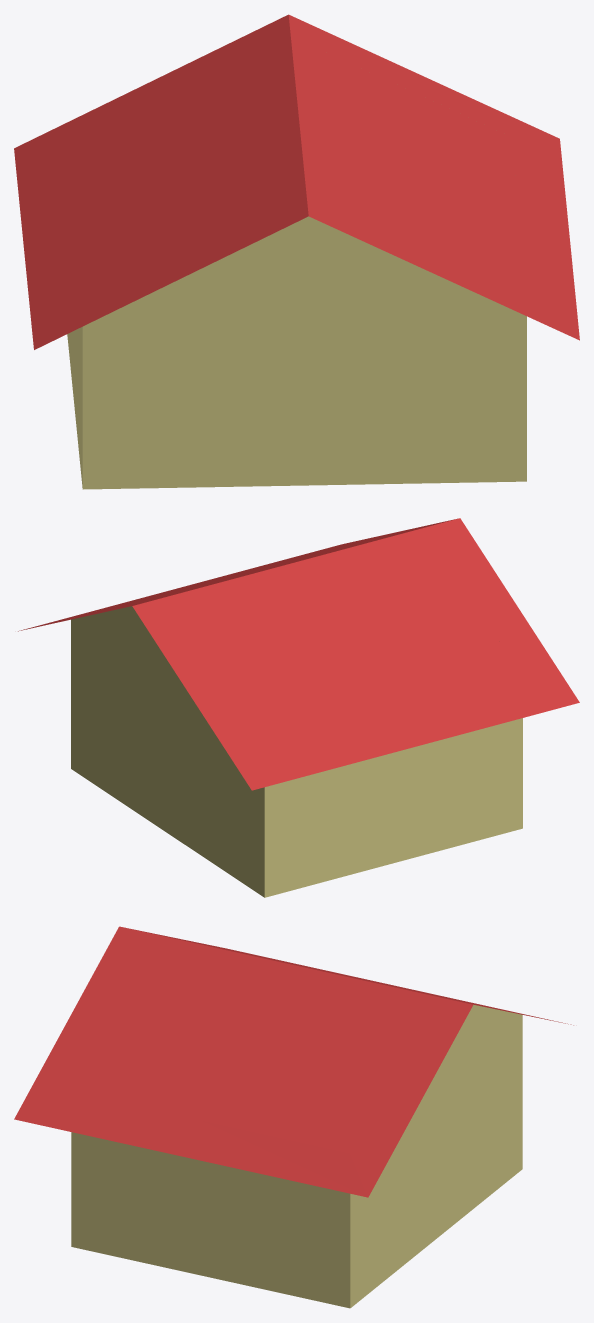
3 views of the same model, one above another, from view 1: azimuth 30°, elevation 25°; view 2: azimuth 150°, elevation 25°; view 3: azimuth 270°, elevation 25° (orthographic). The views are drawn at different scales.
Bounding box in the file's own units: 20.83 × 19.98 × 9.46.
